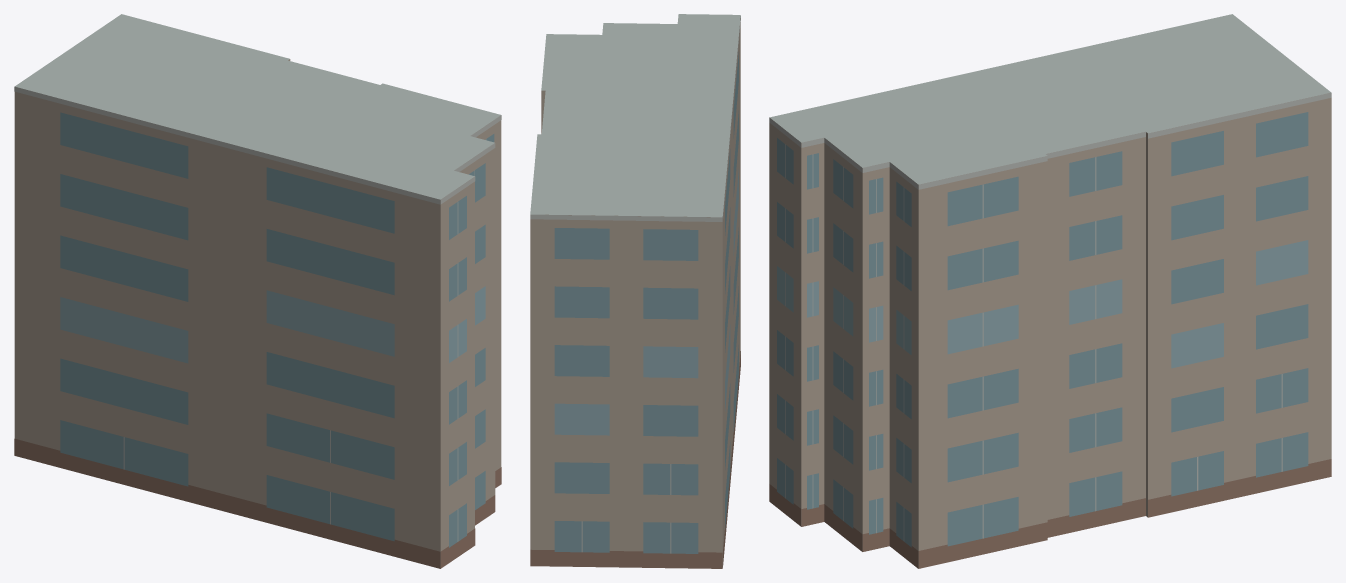
File: survey-upis-32679065.glb
3 views of the same model, side by side, from view 1: azimuth 30°, elevation 25°; view 2: azimuth 150°, elevation 25°; view 3: azimuth 270°, elevation 25° (orthographic). The views are drawn at different scales.
Visible parts, largest first — view 1: survey-upis-32679065.tmp; view 2: survey-upis-32679065.tmp; view 3: survey-upis-32679065.tmp.
Boxes of the visible parts, x1,y1,x2,y2 form: survey-upis-32679065.tmp: (14, 14, 501, 568); survey-upis-32679065.tmp: (530, 14, 740, 568); survey-upis-32679065.tmp: (769, 14, 1331, 568).
Bounding box in the file's own units: 17.16 × 18 × 23.87.
